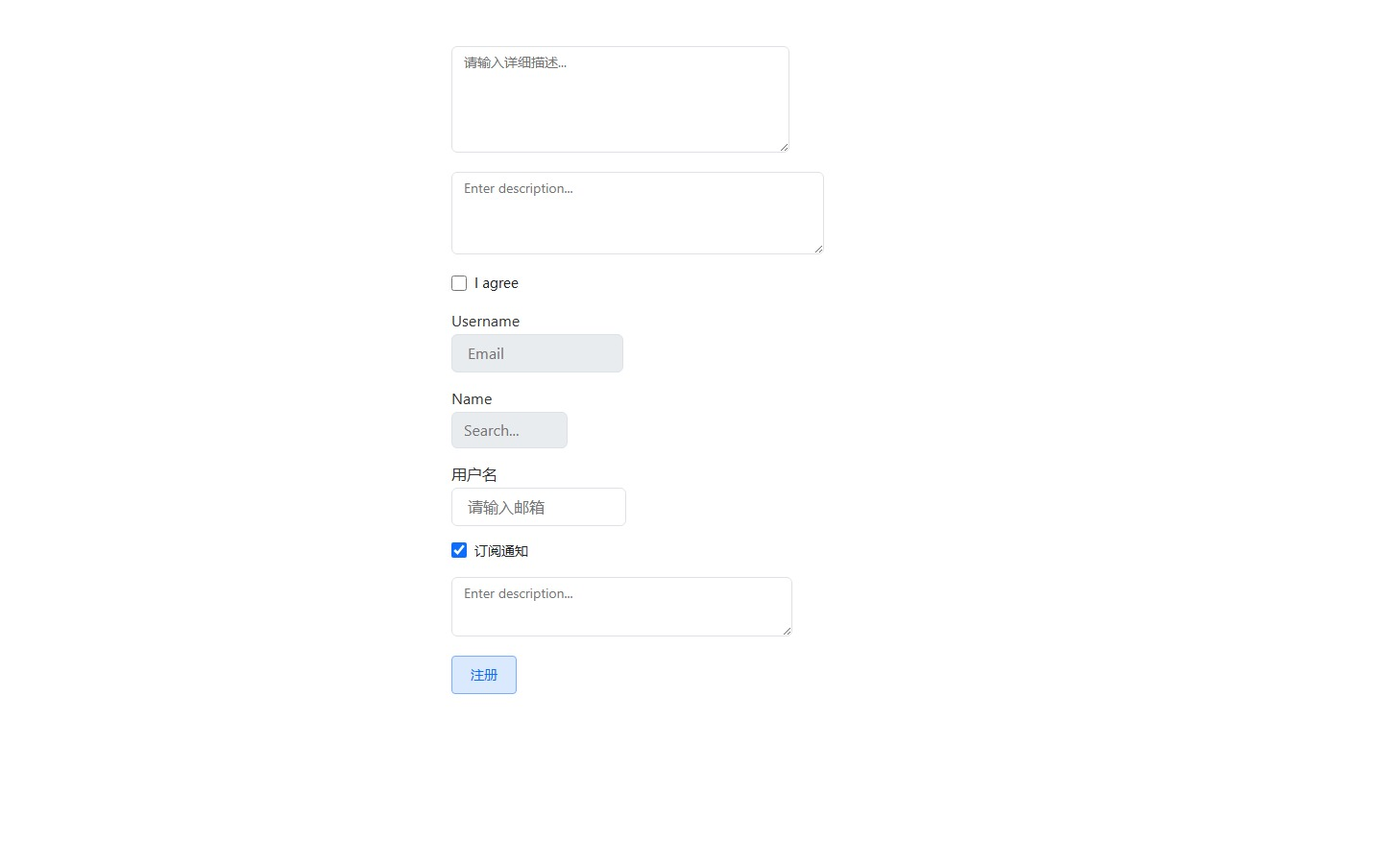button: (451, 656, 517, 694)
checkbox: (451, 542, 467, 558), (451, 275, 467, 290)
icon: (474, 541, 528, 559), (474, 274, 519, 292)
input: (451, 487, 626, 526), (451, 334, 623, 372), (451, 411, 568, 448)
radio: (451, 541, 528, 559), (451, 274, 519, 292)
textarea: (451, 46, 789, 153), (451, 172, 824, 254), (451, 577, 792, 636)
